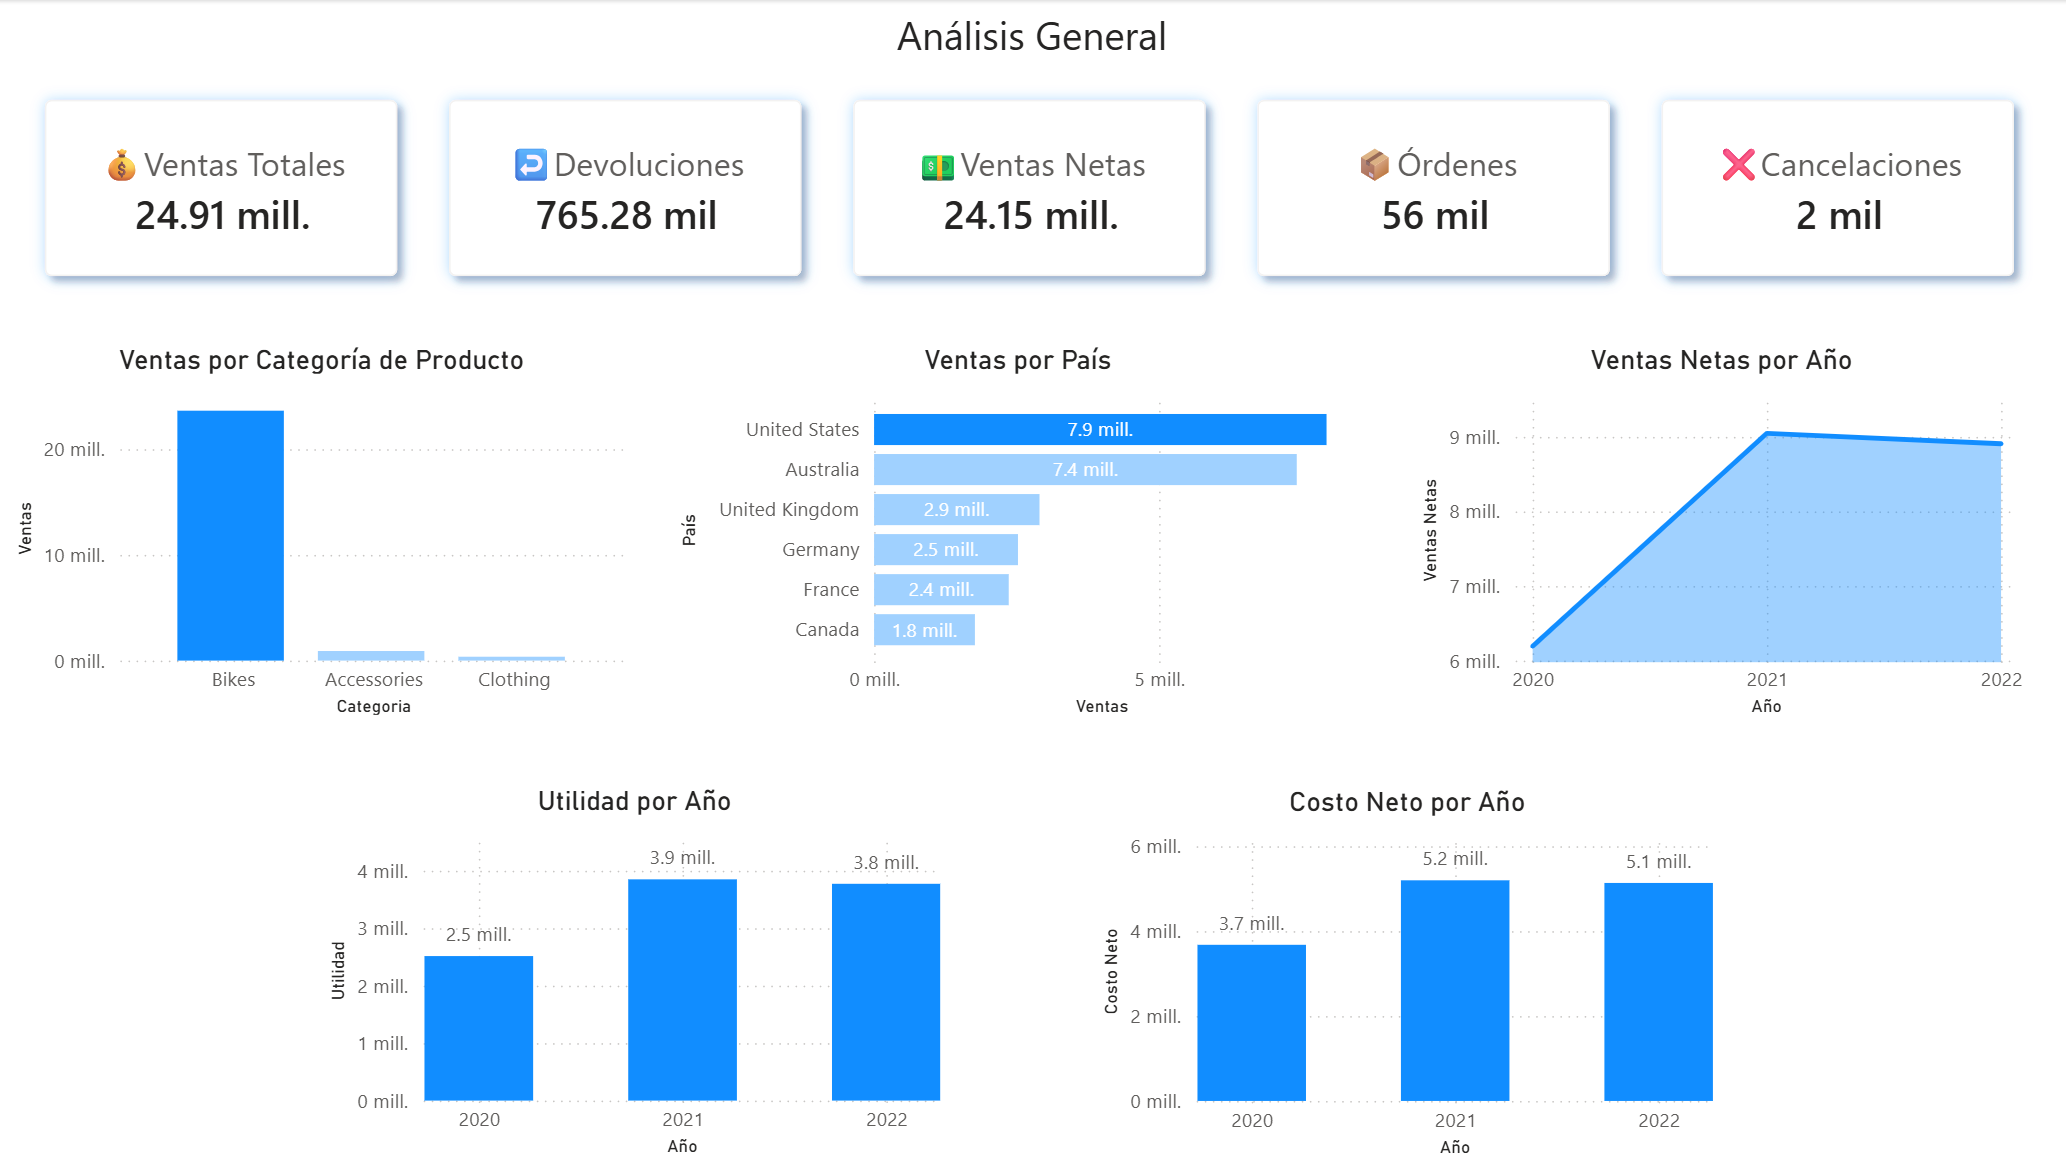

Layout of this report page (visuals, bound fields, positions):
{"tool":"powerbi","page":{"name":"Análisis General","canvas":[1280,720],"ordinal":0},"visuals":[{"type":"cardVisual","fields":{"Data":["Sum(Total_sales.Ventas_totales)","Sum(Total_de_devoluciones.Total_de_devolucion)","select","Sum(Ordenes_totales.Ordenes_totales)","Sum(Numero_de_Ordenes_totales_devueltas.Numero_de_Ordenes_devueltas)"]},"box":[0,32.8,1279.8,167],"z":0},{"type":"textbox","box":[476.3,0,326.6,49.5],"z":1000},{"type":"columnChart","title":"Ventas por Categoría de Producto","fields":{"Category":["Ventas_por_categoria.CategoryName"],"Y":["Sum(Ventas_por_categoria.Ventas_por_subcategoria)"]},"box":[6.1,212.3,387.9,235.4],"z":2000},{"type":"barChart","title":"Ventas por País","fields":{"Category":["Total_por_pais_2020.Country"],"Y":["select","select1"]},"box":[417.1,212.3,428,235.4],"z":3000},{"type":"areaChart","title":"Ventas Netas por Año","fields":{"Category":["Total_de_ventas_y_devoluciones_por_año.Año"],"Y":["select"]},"box":[875.1,212.3,381.8,235.4],"z":4000},{"type":"columnChart","title":"Costo Neto por Año","fields":{"Y":["select"],"Category":["Total_de_ventas_y_devoluciones_por_año.Año"]},"box":[677.9,485.6,387.8,234.4],"z":5000},{"type":"columnChart","fields":{"Category":["total_de_devoluciones_por_año (2).año"],"Y":["Sum(total_de_devoluciones_por_año (2).devoluciones_de_costo)","Sum(total_de_devoluciones_por_año (2).devoluciones_de_venta)","Sum(Total_de_ventas_y_costos_por_año.Total_de_venta)","Sum(Total_de_ventas_y_costos_por_año.Costo_total)","select","select1","select2"]},"box":[199.8,484.9,388.3,234.8],"z":6000}]}

Visuals, with their boxes in screenshot pixels (x1, y1, x2, y2), scaled from the page's 1280x720 canvas onto the 2066x1163 screenshot:
cardVisual - Sum(Total_sales.Ventas_totales) x Sum(Total_de_devoluciones.Total_de_devolucion): bbox(0, 53, 2065, 323)
textbox: bbox(769, 0, 1296, 80)
"Ventas por Categoría de Producto" columnChart: bbox(10, 343, 636, 723)
"Ventas por País" barChart: bbox(673, 343, 1364, 723)
"Ventas Netas por Año" areaChart: bbox(1412, 343, 2029, 723)
"Costo Neto por Año" columnChart: bbox(1094, 784, 1720, 1162)
columnChart - total_de_devoluciones_por_año (2).año x Sum(total_de_devoluciones_por_año (2).devoluciones_de_costo): bbox(322, 783, 949, 1162)
